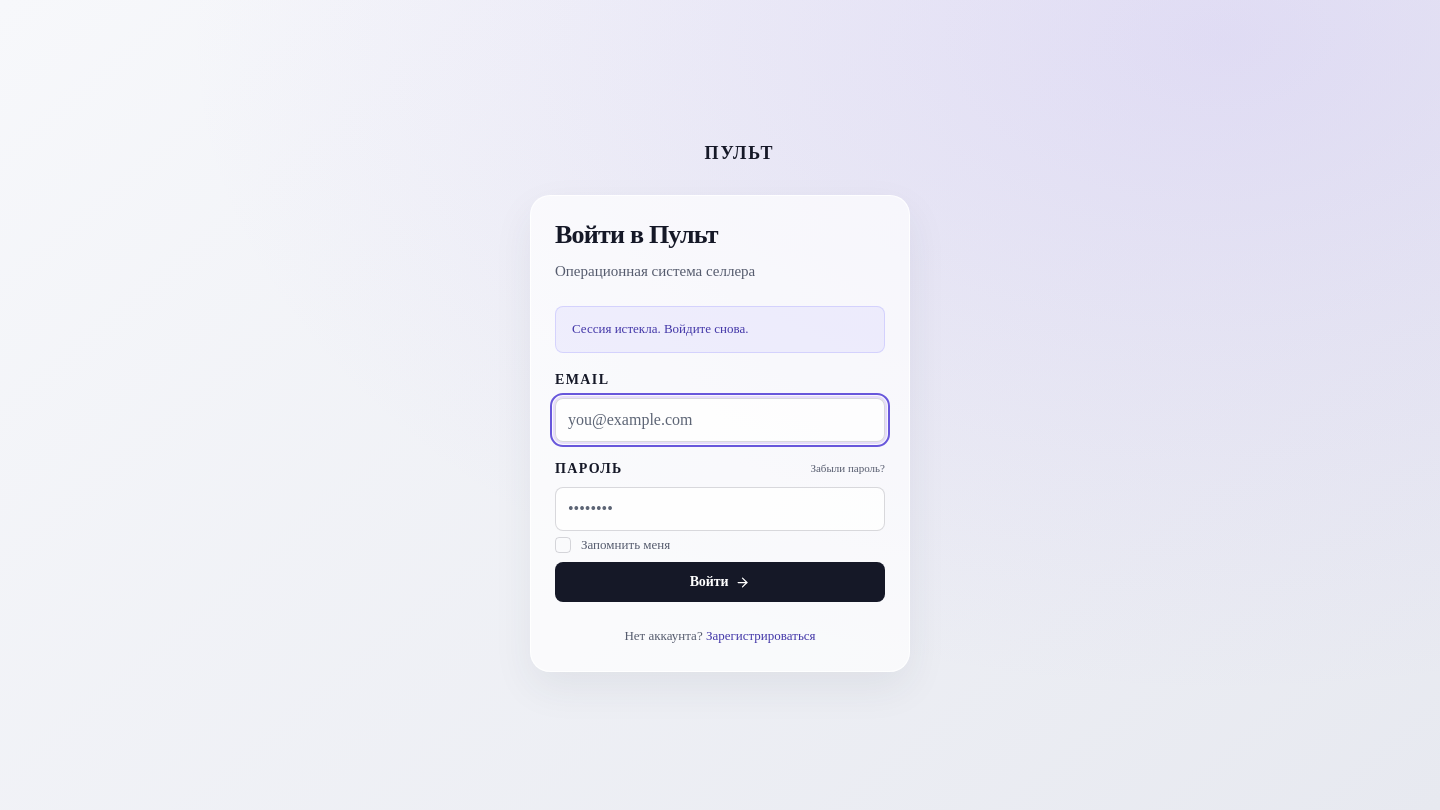
Test: auth controls expose their existing labels and browser purposes › announces session information and async errors without changing submission behavior
Expected: the message shows "Сессия истекла", [572,321,748,336]
Type "seller@example.invalid" into the field labelled "EMAIL". click: (720, 420)
box: [555,398,885,442]
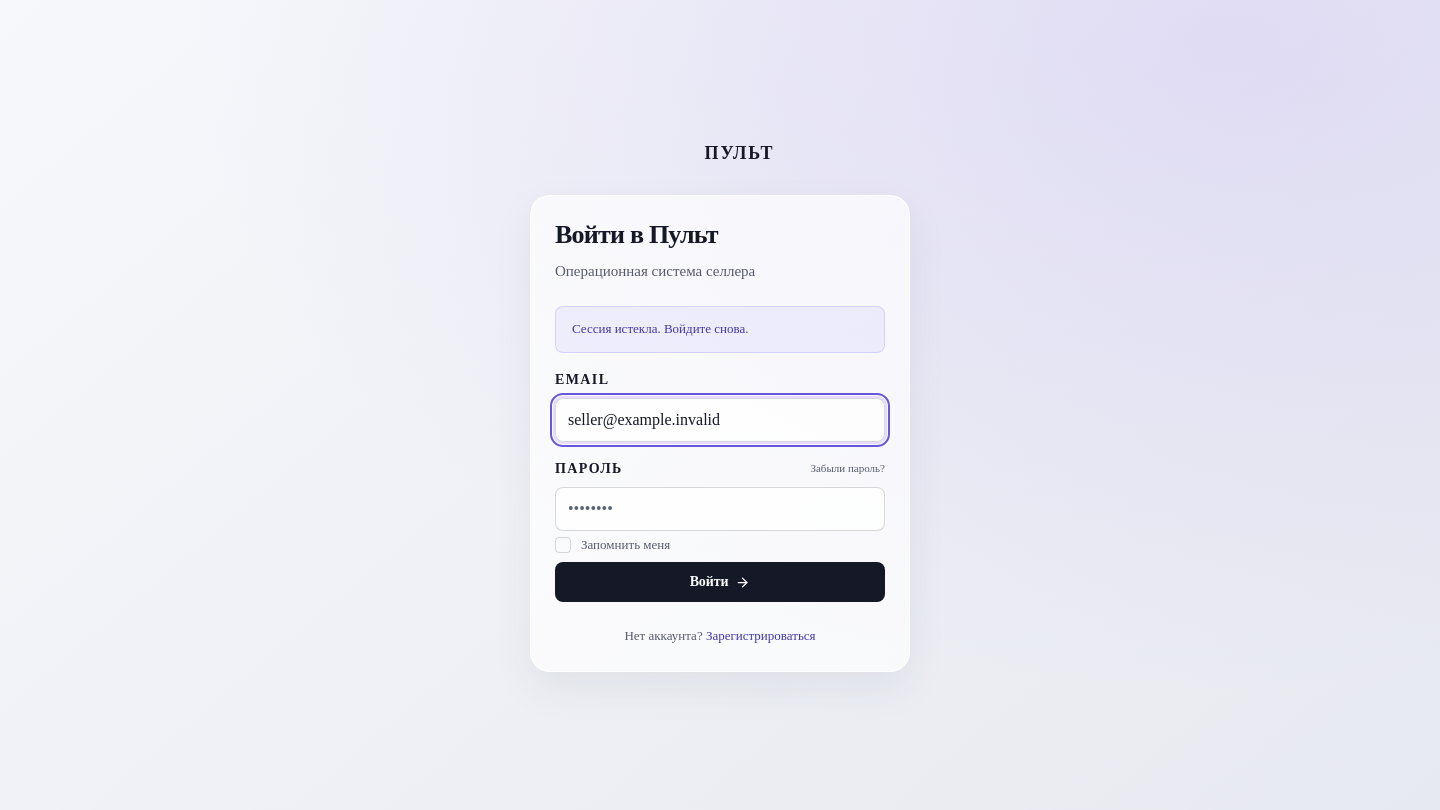
Type "synthetic-password" into the password field labelled "ПАРОЛЬ". click: (720, 509)
box: [555,487,885,531]
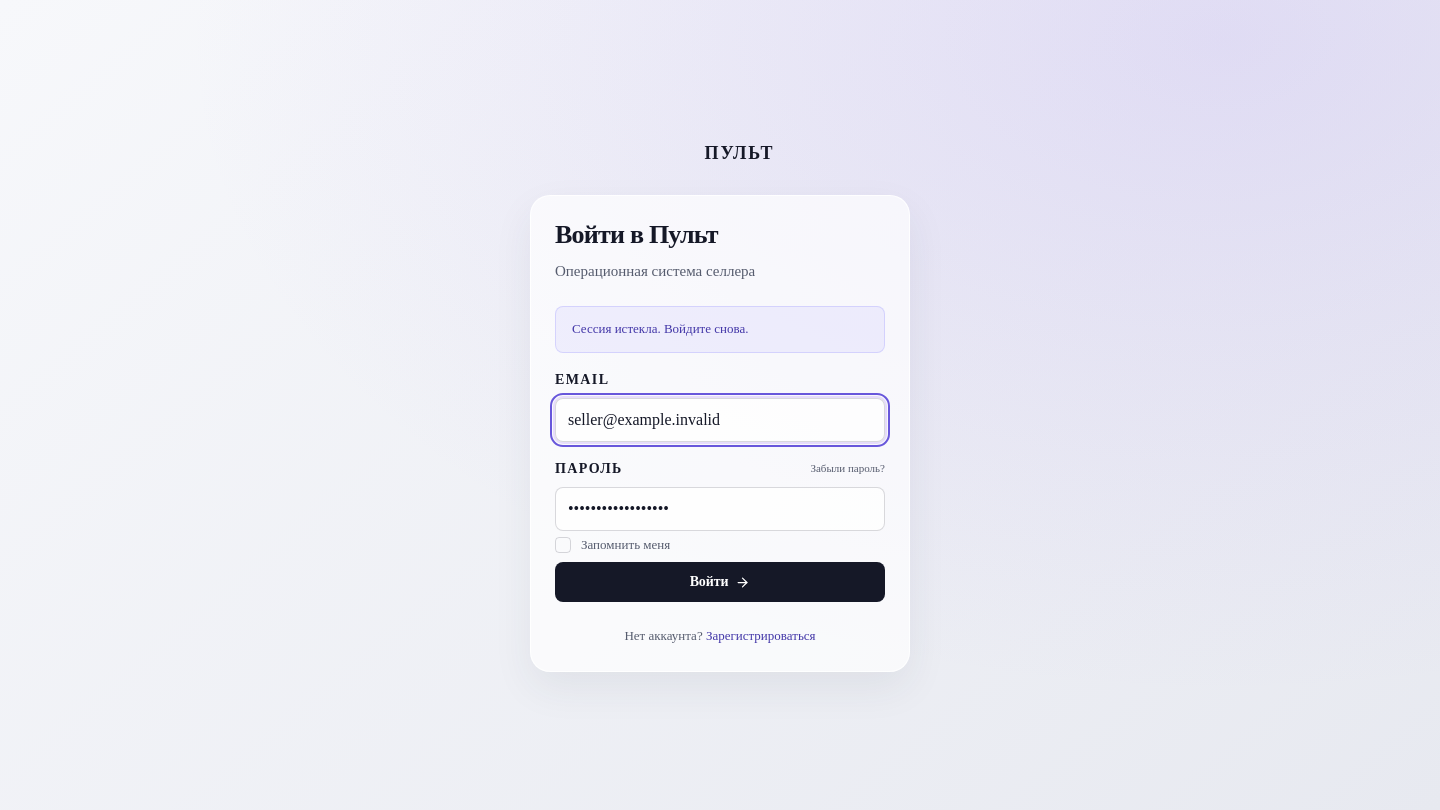
Submit the form, box [555,369,885,602]
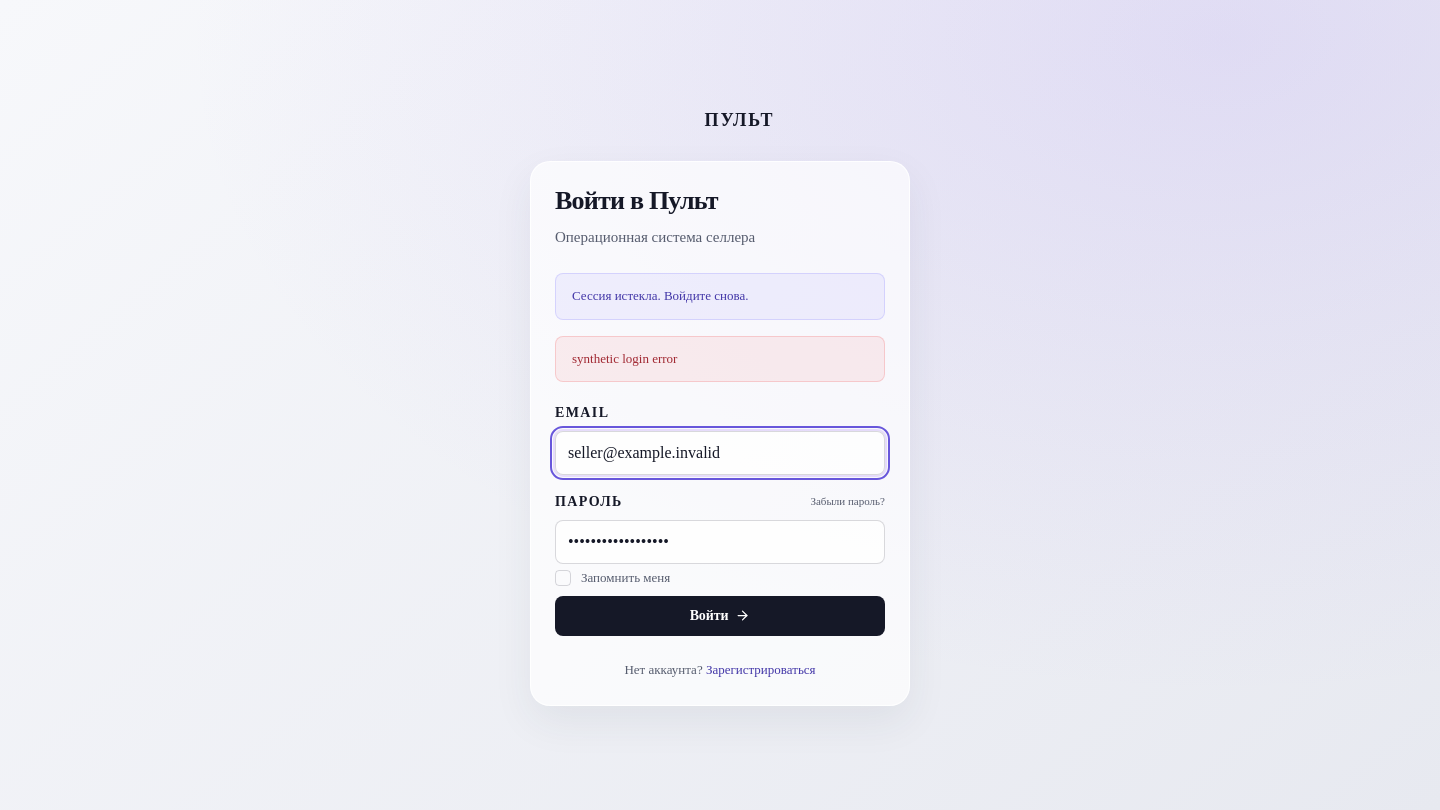
Expected: the message "synthetic login error" is shown, [555,336,885,382]
